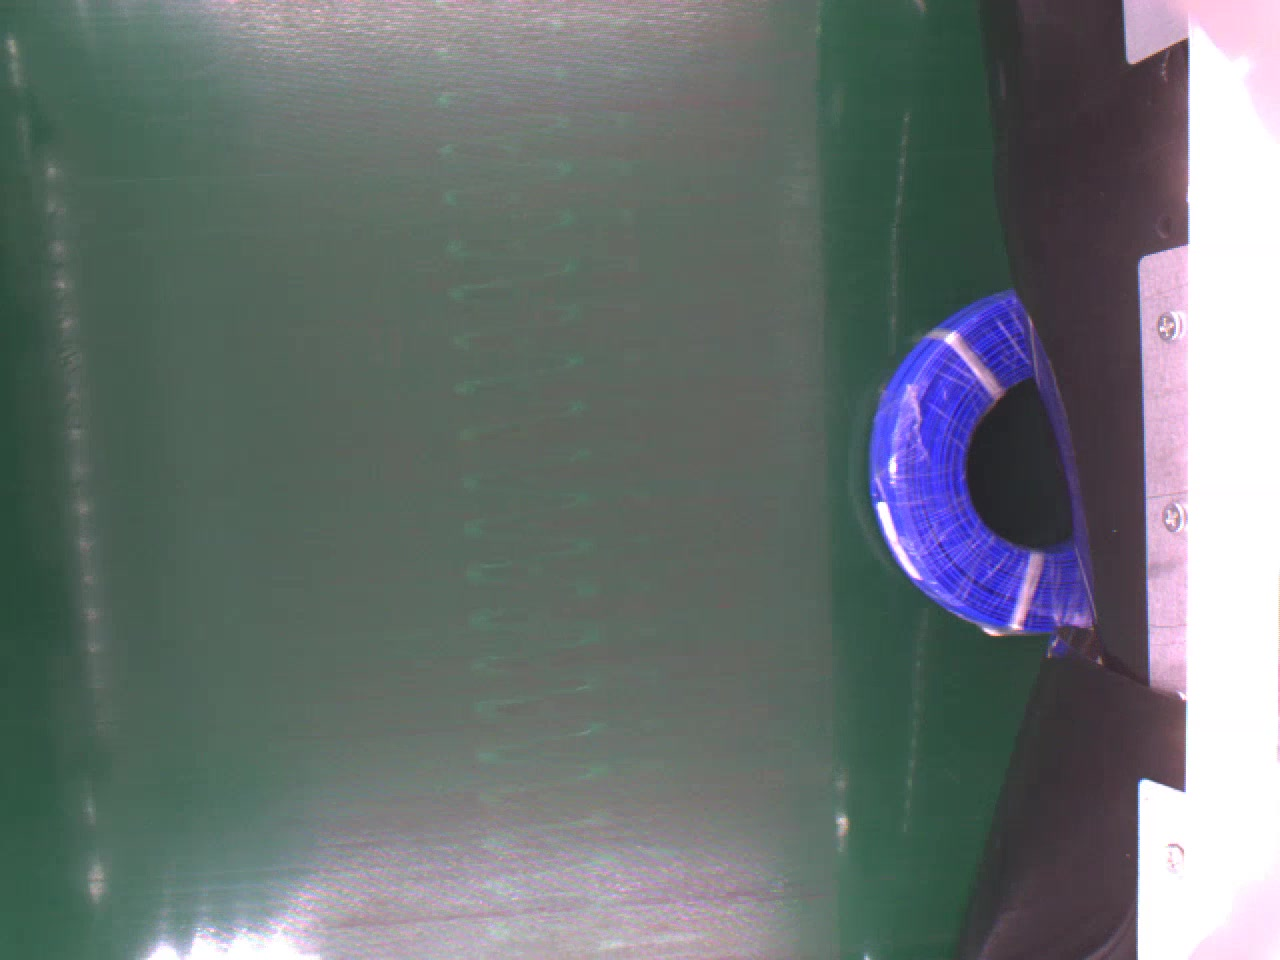blue: (873, 290, 1093, 641)
